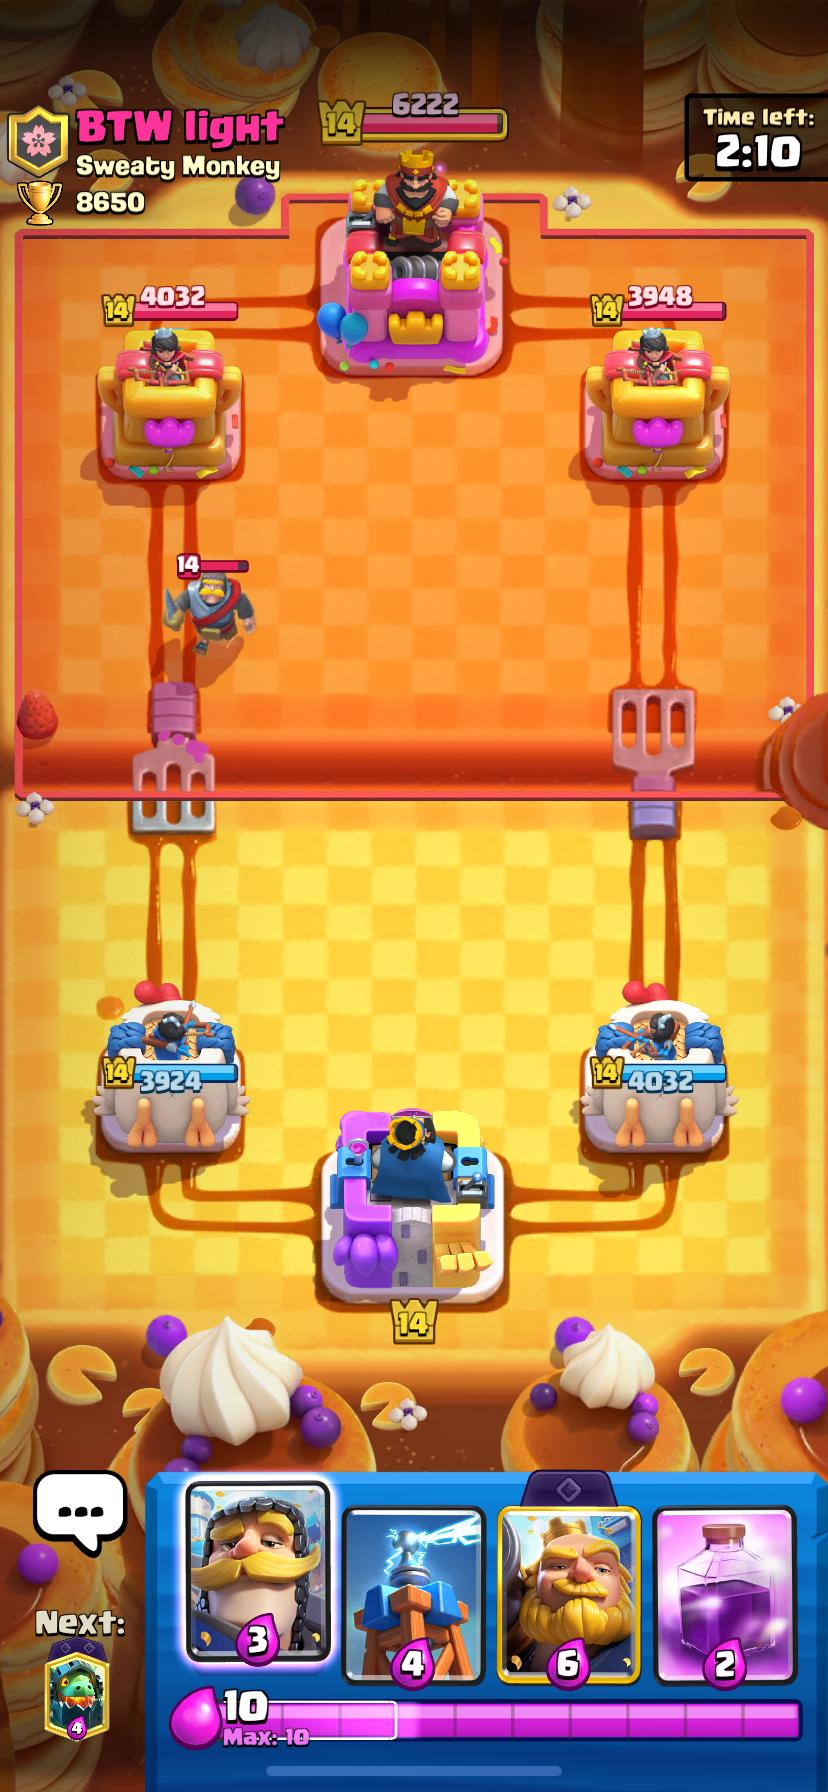EKingTower: (316, 166, 502, 376)
EKnight: (164, 571, 255, 655)
EnemyPrincessTower: (584, 327, 729, 480), (97, 326, 241, 479)
OwnKingTower: (321, 1109, 503, 1303)
OwnPrincessTower: (93, 983, 248, 1152), (581, 982, 735, 1151)
